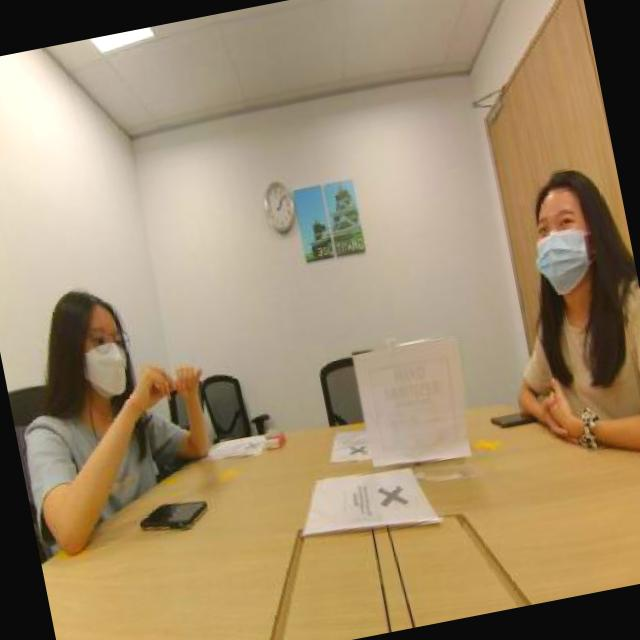Person: (9, 244, 217, 508), (488, 123, 640, 422)
